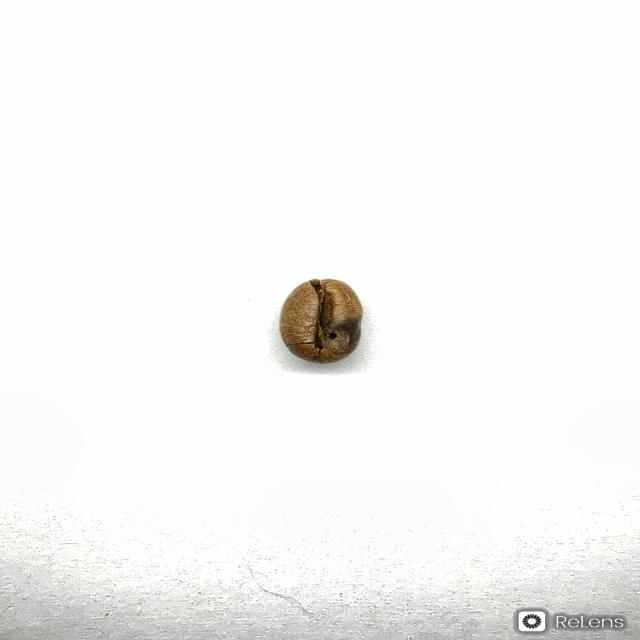Insect damage: (278, 277, 363, 364)
